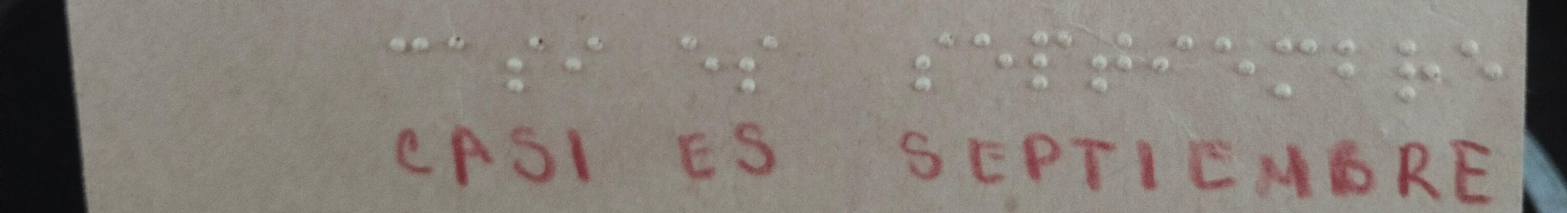a: (434, 15, 483, 78)
b: (1325, 10, 1378, 112)
c: (369, 15, 434, 82)
e: (1444, 12, 1509, 112), (1202, 15, 1261, 111), (963, 15, 1017, 107), (674, 20, 729, 102)
i: (1142, 20, 1200, 106), (553, 27, 620, 92)
m: (1258, 12, 1321, 111)
p: (1021, 20, 1081, 107)
r: (1383, 7, 1442, 116)
s: (889, 19, 961, 107), (490, 27, 551, 106), (731, 17, 785, 106)
t: (1081, 19, 1140, 106)
